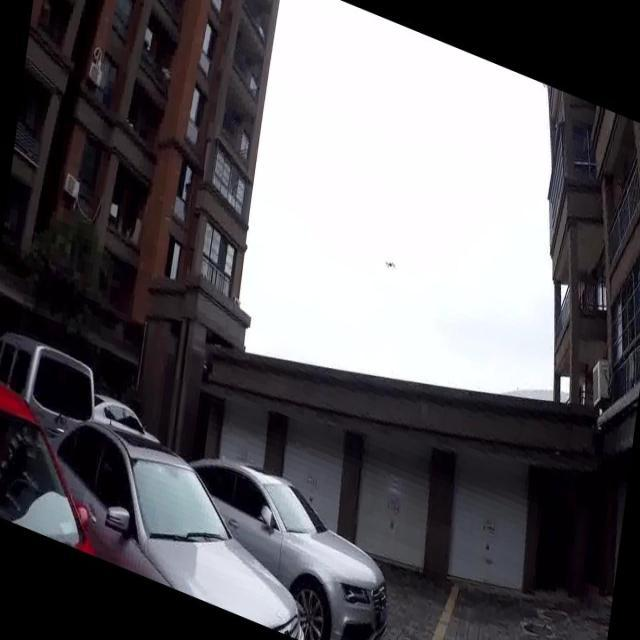drone: (382, 254, 398, 272)
